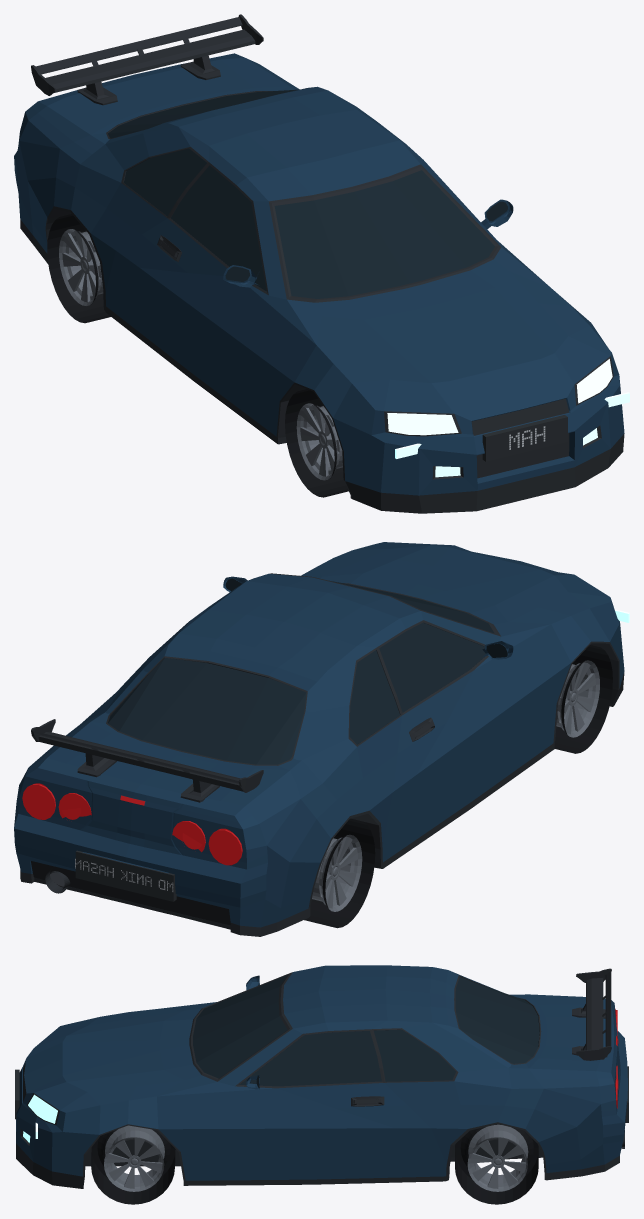
Rendered from mah-nightline-r34.glb.
3 renders of one model, top to bottom at view 1: azimuth 30°, elevation 25°; view 2: azimuth 150°, elevation 25°; view 3: azimuth 270°, elevation 25°, orthographic. The views are drawn at different scales.
Visible parts, largest first — view 1: VEH_Body_LOD0, VEH_Wheel_FL_LOD0, VEH_Wheel_RL_LOD0, VEH_BrandCover_Front; view 2: VEH_Body_LOD0, VEH_Wheel_RL_LOD0, VEH_Wheel_FL_LOD0, VEH_BrandCover_Rear, VEH_BrakeLamp_L_2, VEH_BrakeLamp_R_2; view 3: VEH_Body_LOD0, VEH_Wheel_RR_LOD0, VEH_Wheel_FR_LOD0.
Part boxes in pixels (box(x1,y1,x2,y2)): VEH_Body_LOD0: box(14, 14, 624, 513); VEH_Wheel_FL_LOD0: box(285, 389, 348, 497); VEH_Wheel_RL_LOD0: box(47, 214, 110, 323); VEH_BrandCover_Front: box(482, 415, 567, 461); VEH_Body_LOD0: box(14, 542, 624, 936); VEH_Wheel_RL_LOD0: box(304, 818, 375, 928); VEH_Wheel_FL_LOD0: box(554, 645, 612, 753); VEH_BrandCover_Rear: box(75, 850, 176, 901); VEH_BrakeLamp_L_2: box(208, 829, 242, 865); VEH_BrakeLamp_R_2: box(22, 784, 55, 819); VEH_Body_LOD0: box(16, 965, 627, 1188); VEH_Wheel_RR_LOD0: box(455, 1124, 538, 1204); VEH_Wheel_FR_LOD0: box(91, 1125, 175, 1204).
Size of the model in its own units: 1.82 by 1.31 by 4.43.
